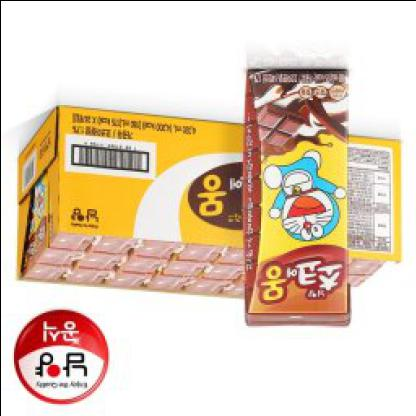tetra: (235, 52, 362, 342)
